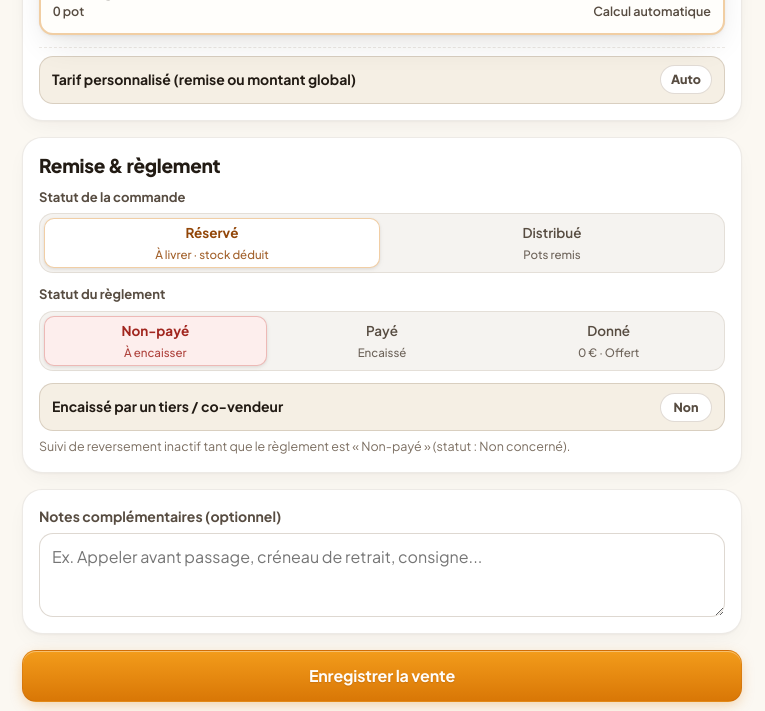
Test: SaleFormPage & useSaleDraftPersistence (M5a) › auto-activates third-party transfer with session.displayName for contributor Payé sales and normalizes to Non concerné when Non-payé/Donné
(page scrolled)
Step 1. Click the radio button with test id "payment-status-Payé" → point(382, 341), box left=271, top=316, right=493, bottom=366
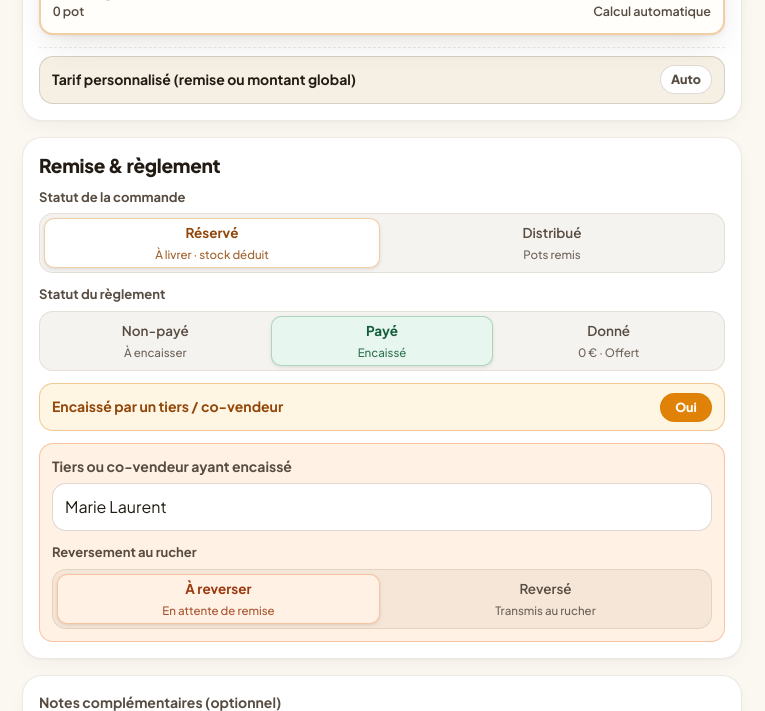
Check: the field with test id "collector-name-input" holds "Marie Laurent", box left=52, top=483, right=712, bottom=531
# Switching to Donné clears third-party transfer state
Step 2. Click the radio button with test id "payment-status-Donné" → point(609, 341), box left=497, top=316, right=720, bottom=366
(page scrolled)
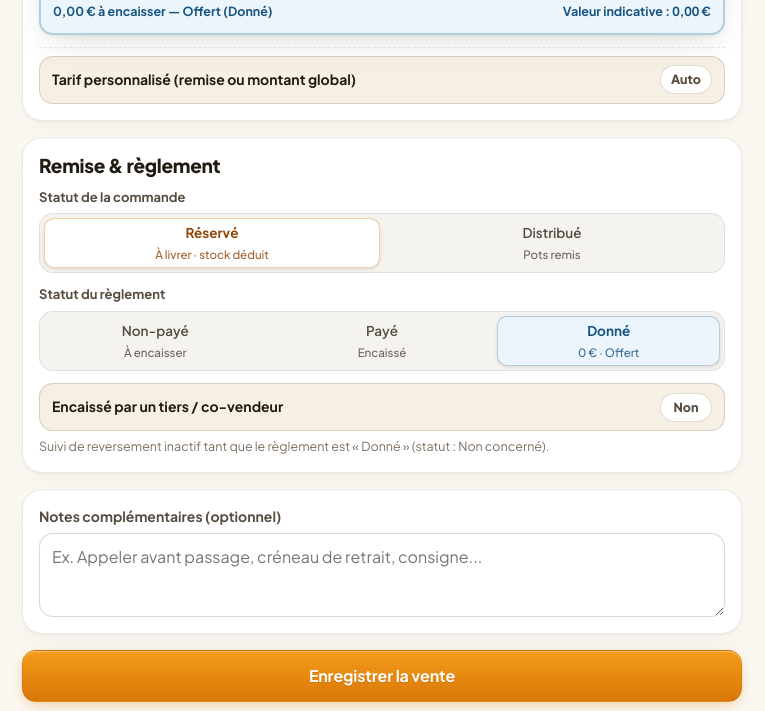
Check: the field with test id "collector-name-input" is gone
